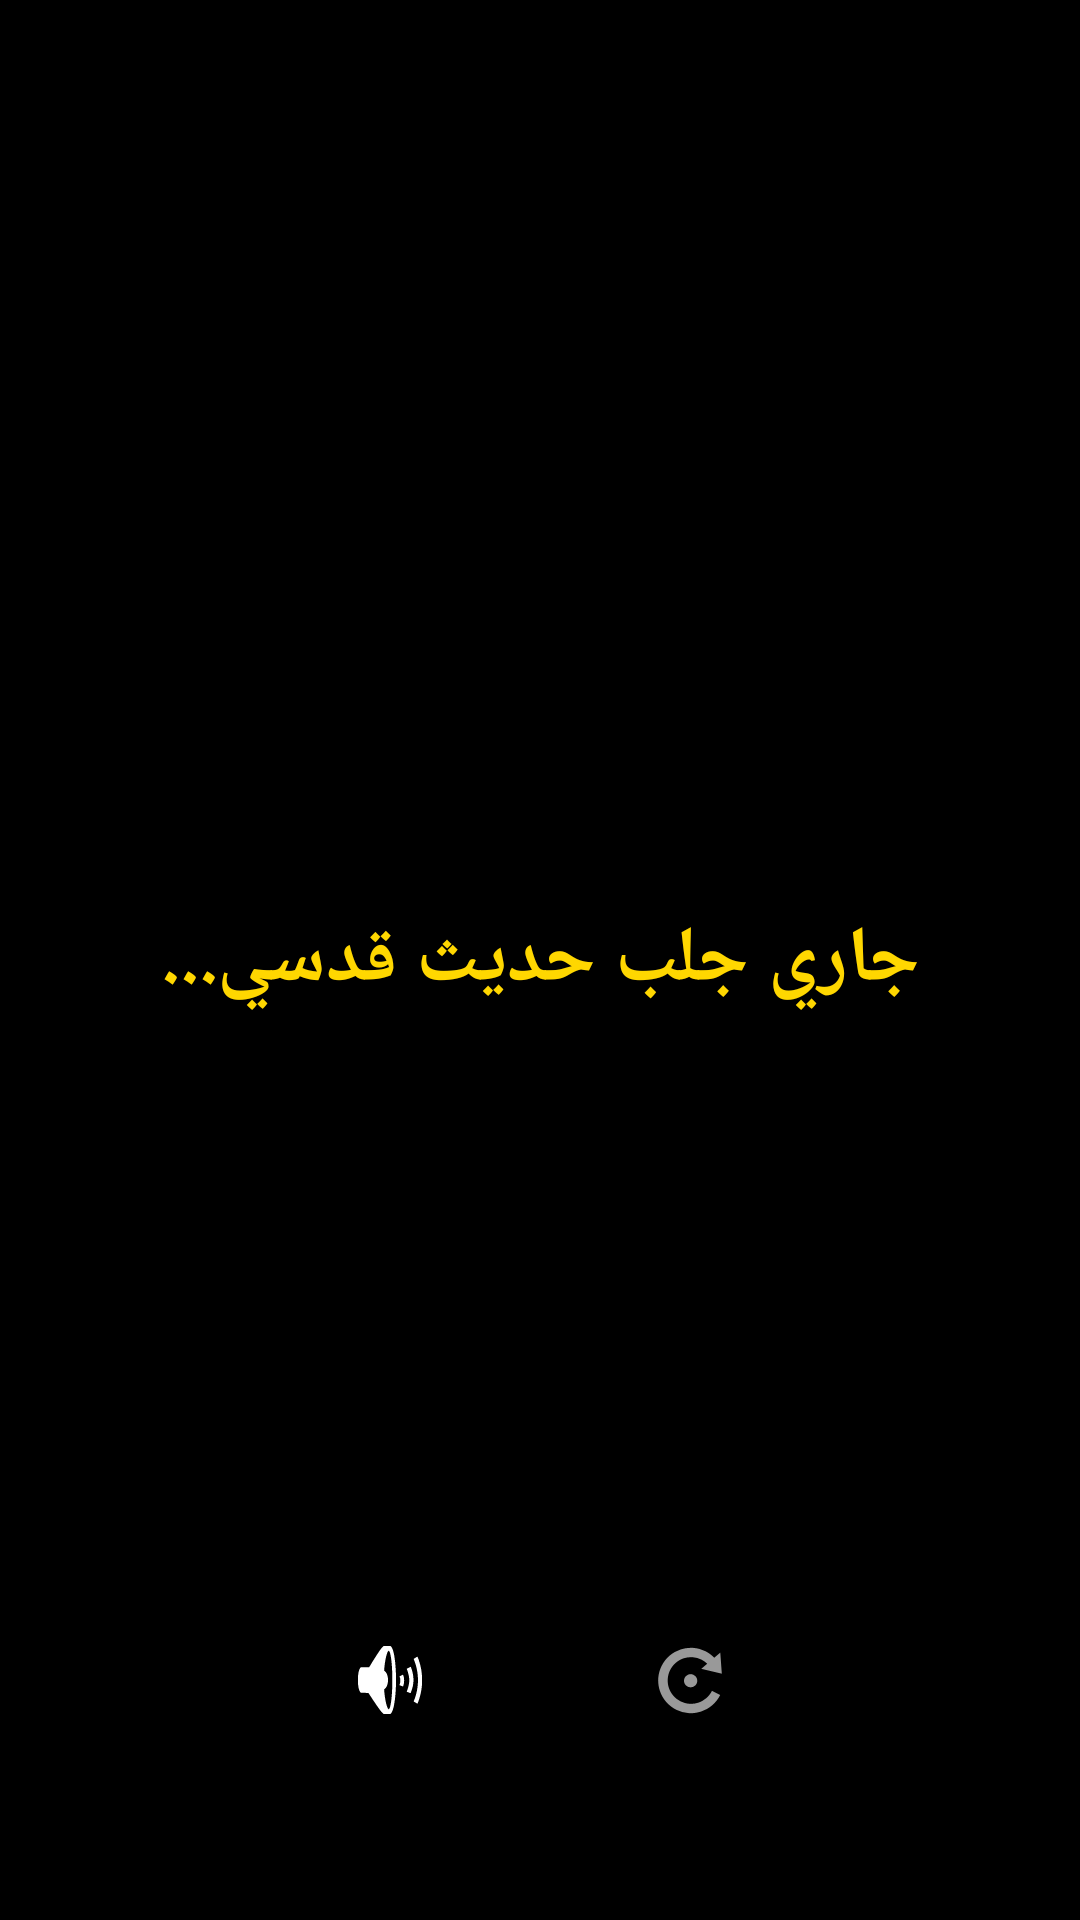

Icon click points for this 1080 x 1920 phone screenshot, format (x=x, y=y):
lock silent mode off: (x=390, y=1680)
rotate: (x=690, y=1680)
